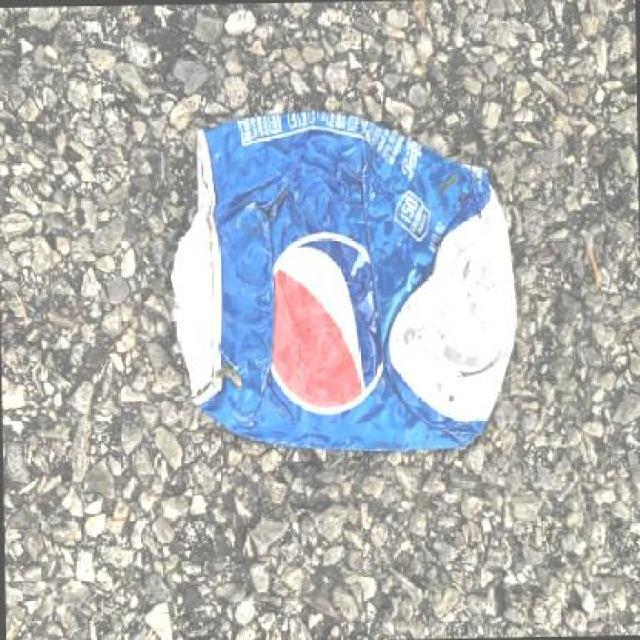recyclable: (164, 94, 530, 463)
